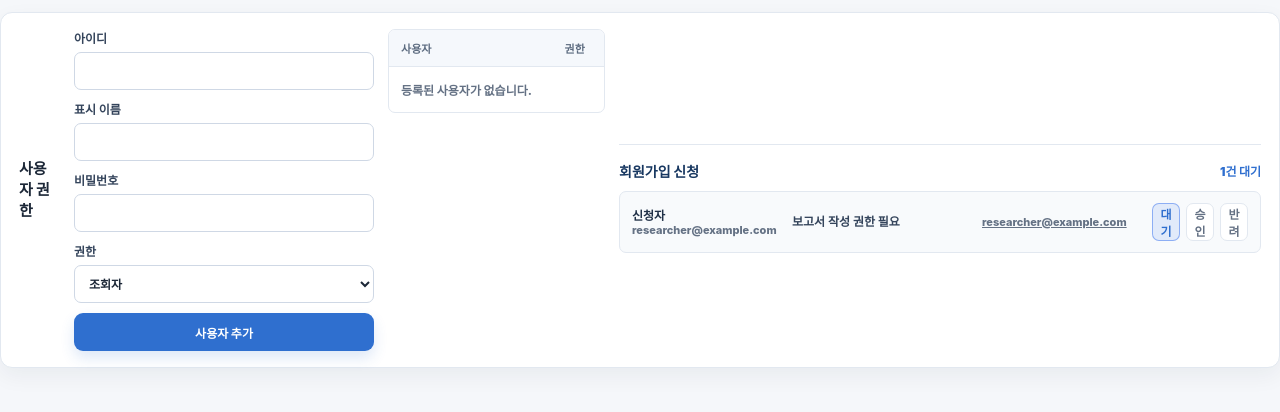
Test: AdminUsersPanel › shows access requests and updates request status through the server API
The image size is (1280, 412).
Expected: the text "신청자" is shown, [632,208,665,223]
Click the button "승인" at (1200, 222), box [1186,202,1214,240]
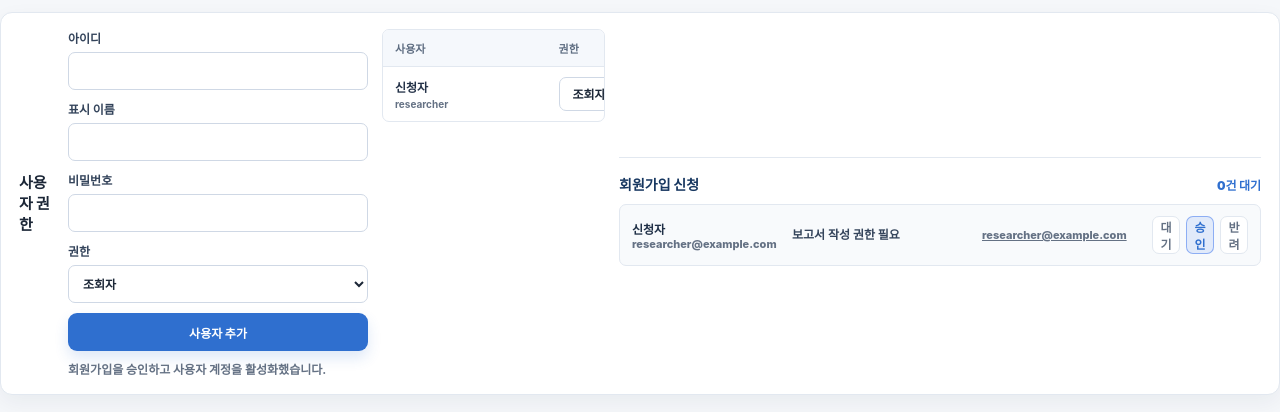
Now the text "회원가입을 승인하고 사용자 계정을 활성화했습니다." is shown, box [68,361,368,378]
